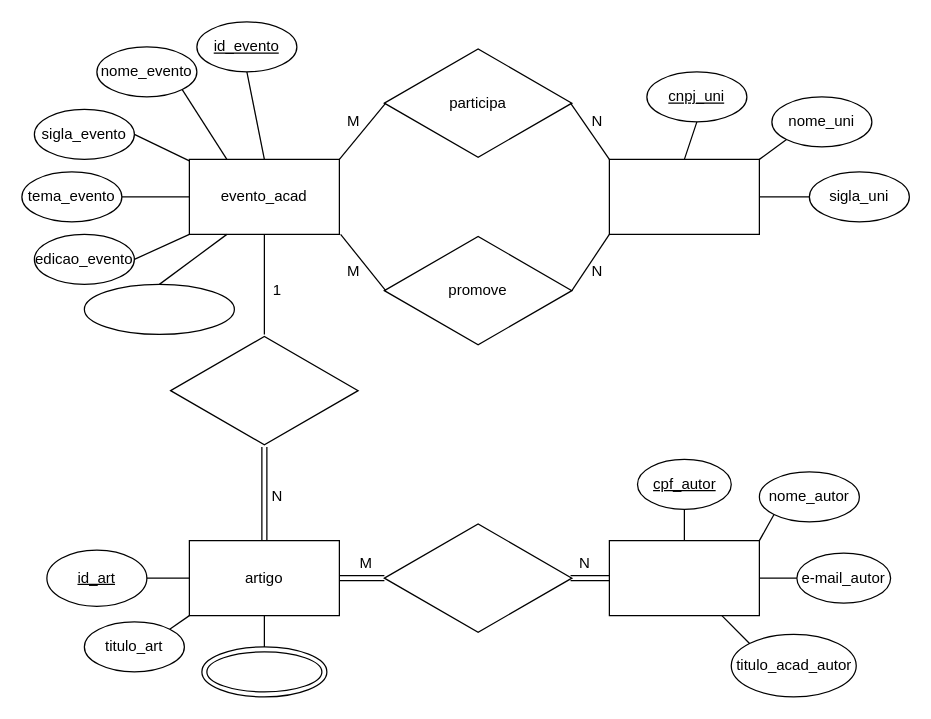
This 931x719 diagram has some shape labels left out. Each missing label, with the centre of its shape:
"autor" goes at pixel 683 577.
"concentracao_evento" goes at pixel 158 308.
"palavras_chave" goes at pixel 264 671.
"pertence_a" goes at pixel 477 577.
"recebe" goes at pixel 263 390.
"universidade" goes at pixel 683 196.
